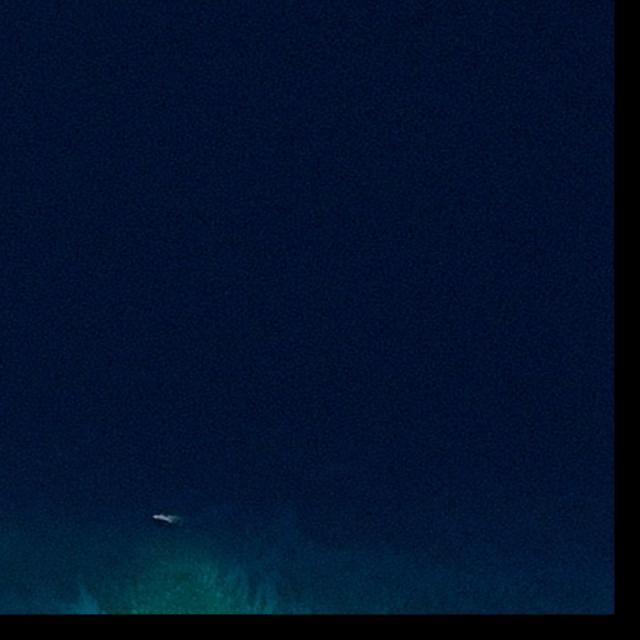ship: (151, 515, 168, 521)
